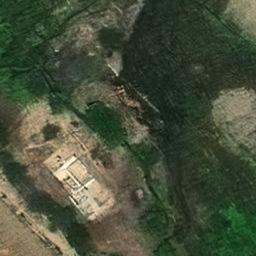manzanas: (39, 140, 120, 225)
